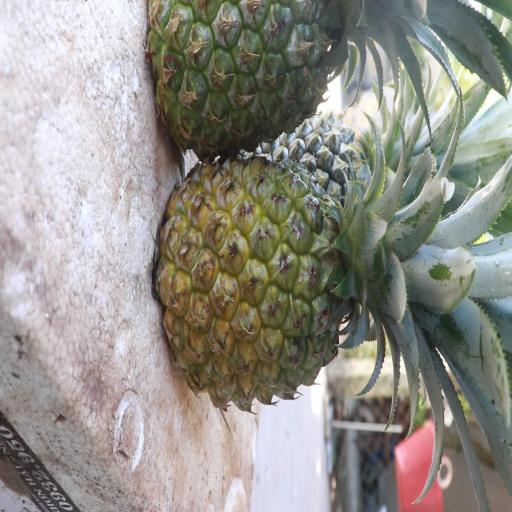------------------------------: (149, 0, 402, 142)
Pineapple - v8 v1: (166, 142, 408, 413)
